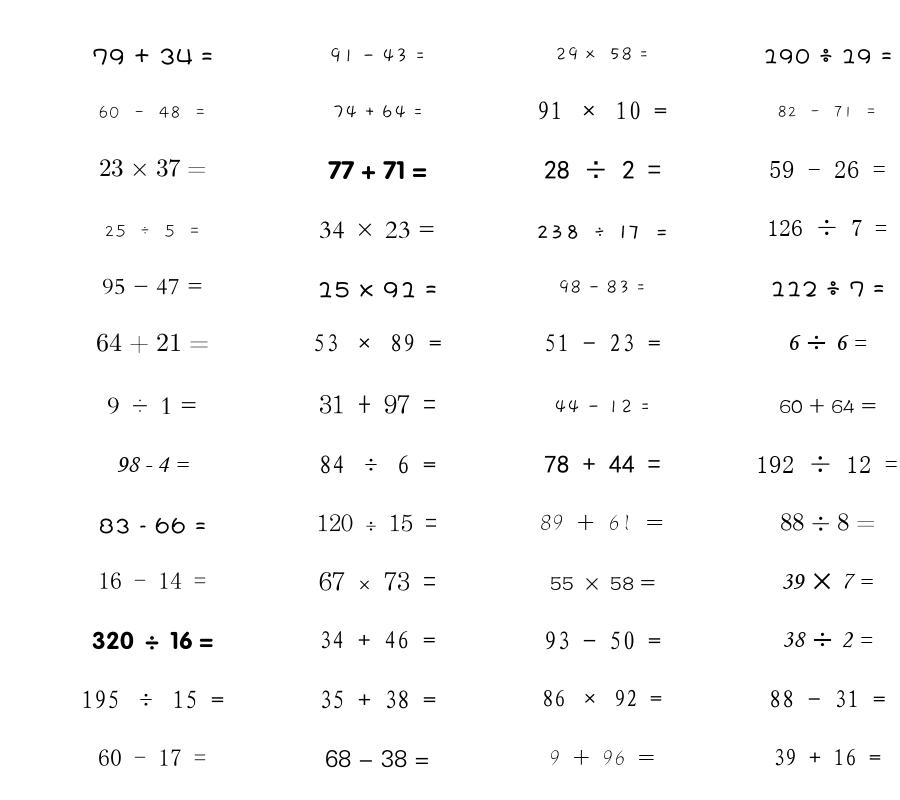MQ: (81, 690, 224, 709), (756, 455, 898, 473), (537, 101, 667, 120), (96, 333, 209, 354), (319, 394, 436, 414), (313, 334, 442, 352), (92, 631, 213, 650), (544, 160, 661, 179), (319, 455, 436, 474), (319, 572, 436, 591), (544, 631, 661, 650), (319, 690, 436, 709), (317, 514, 437, 532), (542, 689, 662, 707), (540, 514, 664, 531), (544, 334, 661, 352), (544, 455, 661, 473), (319, 631, 436, 649), (769, 690, 886, 708), (319, 221, 435, 239), (763, 48, 892, 64), (92, 48, 213, 65), (767, 219, 887, 236), (317, 281, 437, 298), (536, 224, 669, 239), (325, 749, 430, 768), (769, 161, 886, 178), (773, 748, 881, 766), (99, 159, 206, 177), (328, 161, 427, 180), (770, 281, 885, 297), (98, 572, 206, 589), (98, 749, 206, 766), (99, 517, 206, 534), (102, 278, 203, 295), (780, 513, 875, 531), (107, 397, 197, 415), (549, 750, 655, 765), (781, 573, 873, 590), (779, 398, 876, 414), (329, 47, 425, 63), (98, 105, 207, 119), (550, 576, 655, 590), (782, 632, 873, 648), (554, 399, 650, 414), (104, 224, 201, 238), (555, 47, 649, 61), (777, 105, 877, 118), (332, 105, 423, 119), (558, 280, 646, 294), (787, 335, 867, 350), (116, 456, 189, 472)
